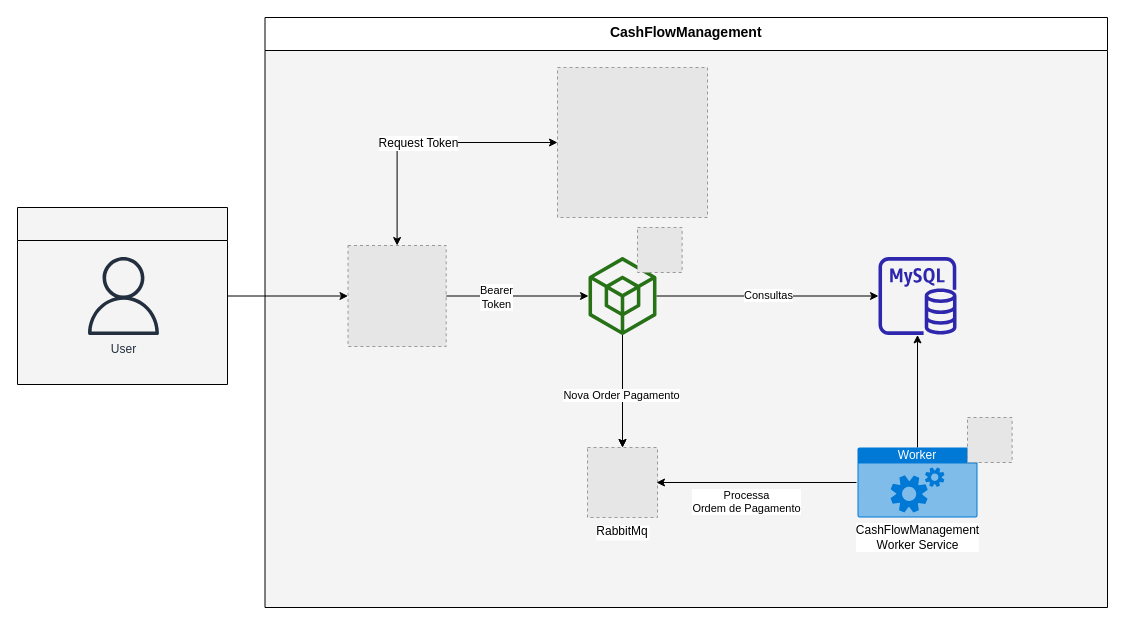
Image size: 1125x625. Some labels were removed from this diagram. Grey dashed boxes stand in for pictures. The shapes that lost their labels are listed below. From the top down, each one's box as (x1, y1, x2, y2) in pixels, then its label:
(16, 206, 228, 384): Actors
(588, 256, 656, 334): CashFlowManagement API
